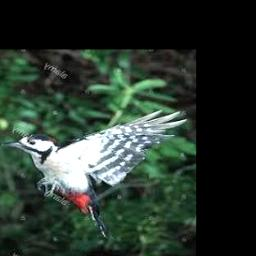Woodpecker: (2, 109, 186, 237)
